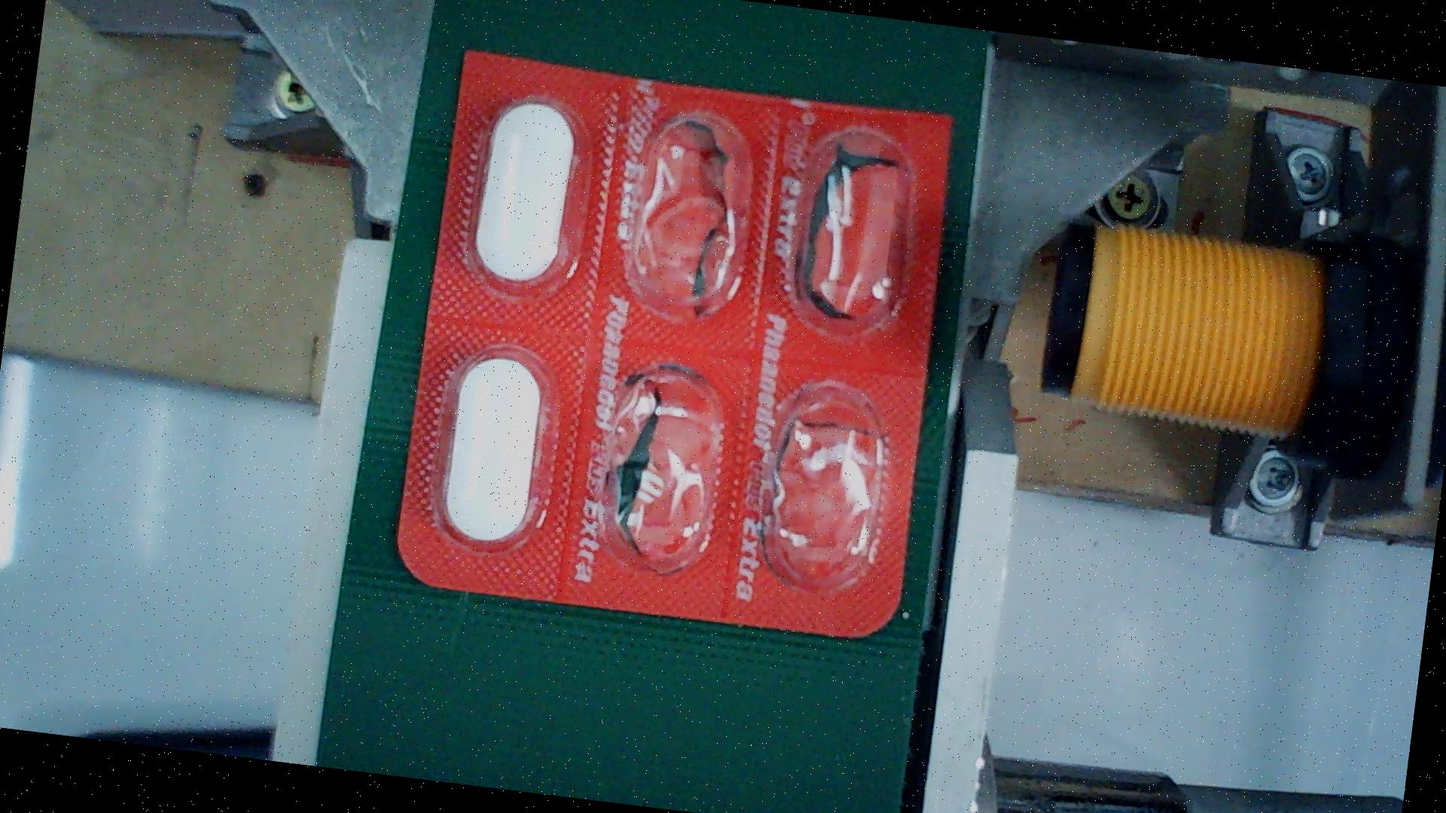Empty: (775, 124, 929, 354), (584, 351, 737, 581), (750, 372, 903, 602), (610, 96, 763, 326)
Full: (450, 80, 595, 308), (422, 333, 567, 561)
